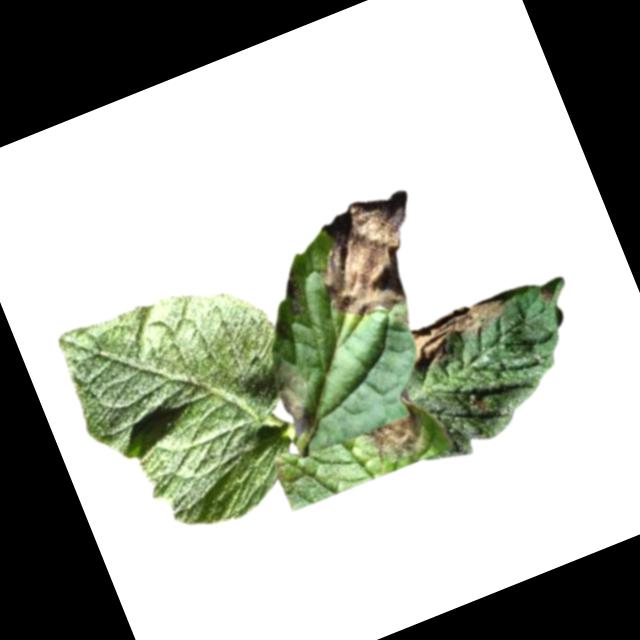Late_blight: (296, 181, 447, 333), (400, 290, 517, 371), (356, 388, 433, 465), (266, 368, 321, 444), (277, 269, 308, 316), (535, 282, 557, 306)
healthy: (47, 259, 334, 557)
